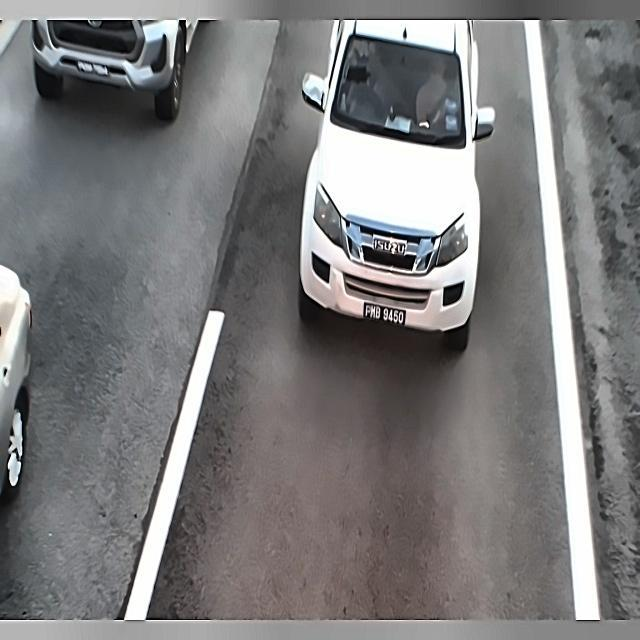car: (359, 294, 409, 328), (70, 54, 116, 83)
